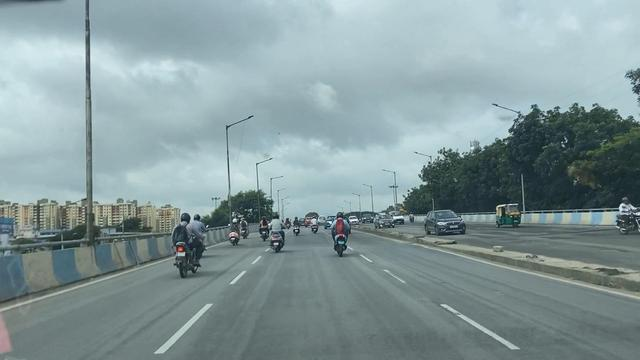LMV: (175, 211, 195, 280), (332, 212, 349, 259), (269, 213, 285, 256), (230, 214, 240, 250), (293, 213, 301, 241)
